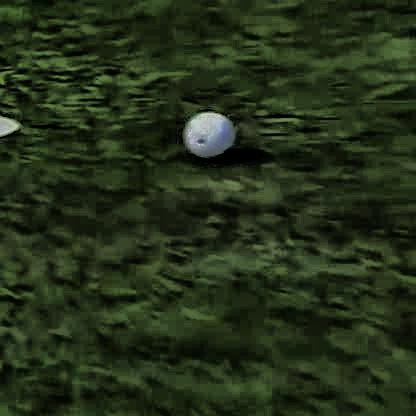golfball: (180, 105, 234, 159)
